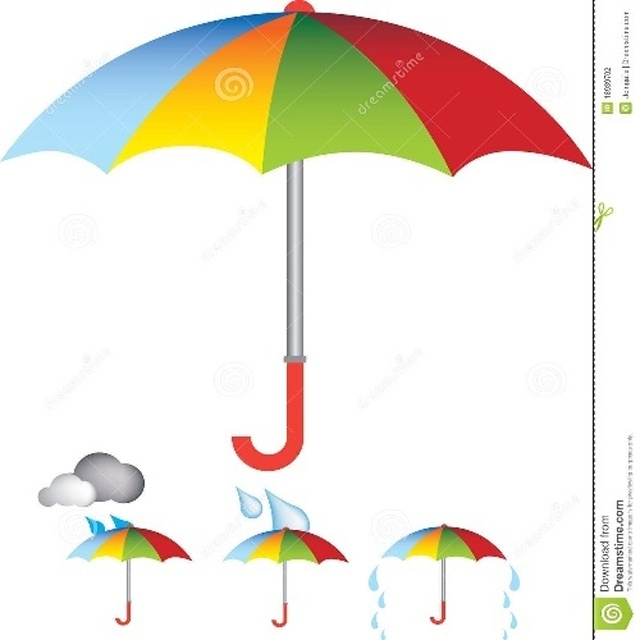umbrella: (1, 9, 593, 474), (379, 522, 511, 627), (219, 524, 351, 627), (65, 523, 193, 628)
